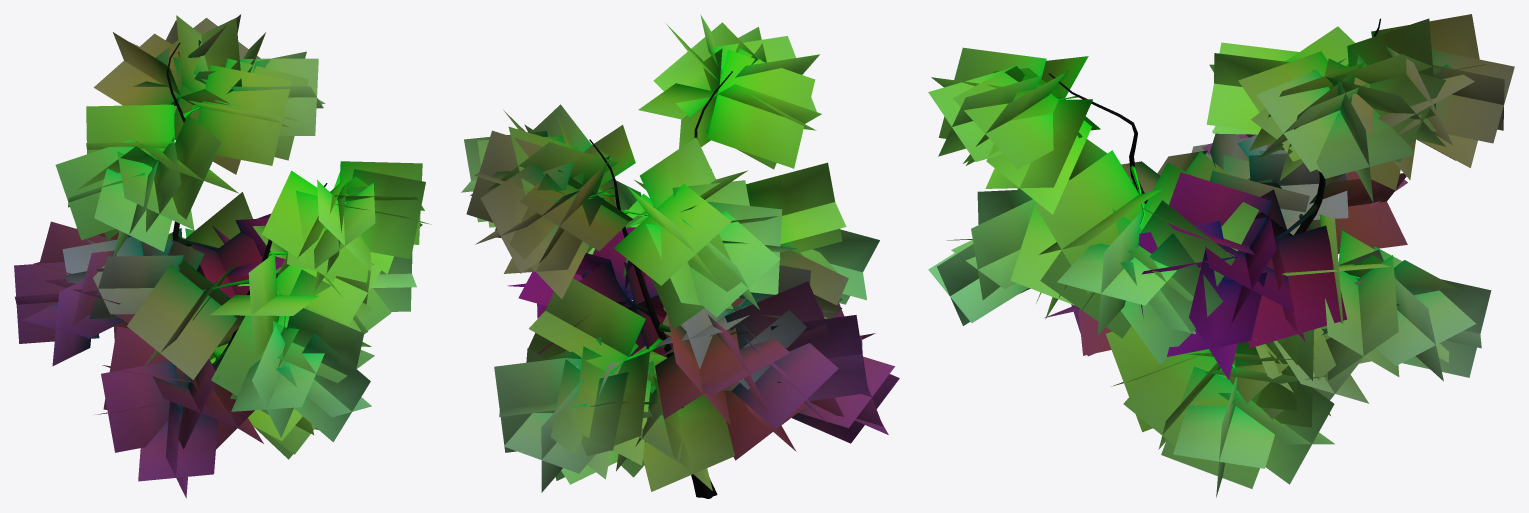
The model's file is URP_P14_Tree_8_LOD_0.fbx.
The picture shows the model from 3 angles, left to right: view 1: azimuth 30°, elevation 25°; view 2: azimuth 150°, elevation 25°; view 3: azimuth 270°, elevation 25°; orthographic projection. The views are drawn at different scales.
Visible parts, largest first — view 1: Tree_8_LOD_0; view 2: Tree_8_LOD_0; view 3: Tree_8_LOD_0.
Part boxes in pixels (bbox=[...]): Tree_8_LOD_0: bbox=[14, 14, 431, 498]; Tree_8_LOD_0: bbox=[461, 14, 899, 498]; Tree_8_LOD_0: bbox=[928, 14, 1514, 497].
Bounding box in the file's own units: 429 × 465 × 544.
